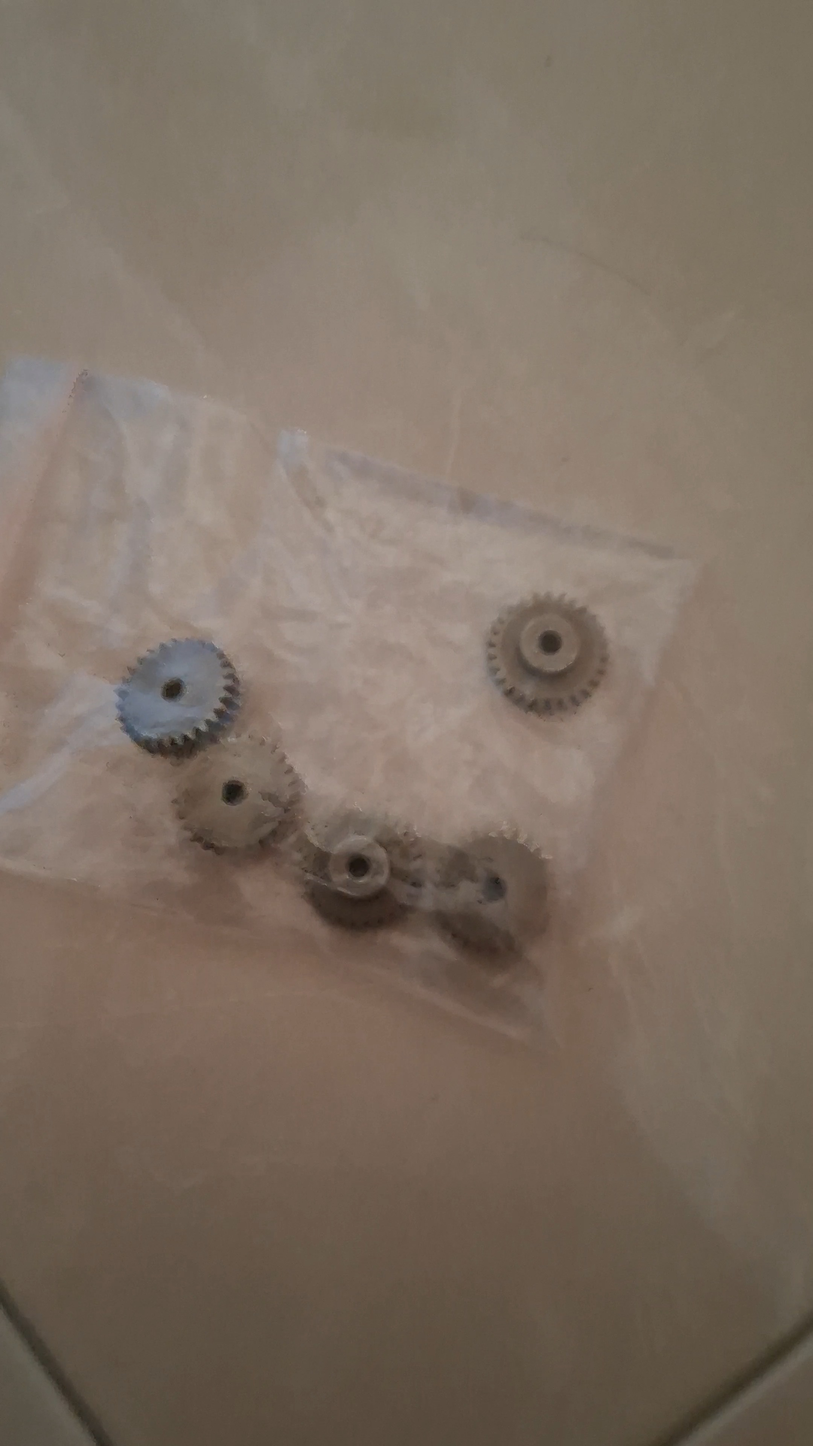spur gear: (295, 809, 422, 928), (486, 594, 608, 716), (432, 833, 549, 956), (117, 639, 239, 756), (176, 737, 301, 851)
